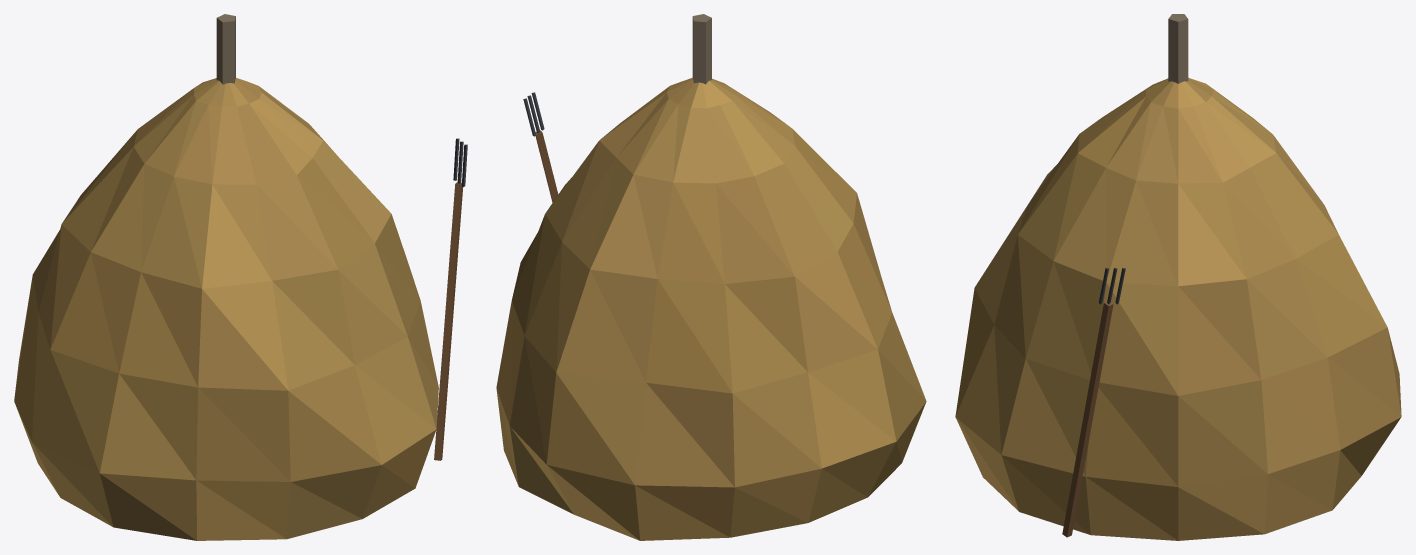
The model's file is Prop_Haystack.glb.
3 views of the same model, side by side, from view 1: azimuth 30°, elevation 25°; view 2: azimuth 150°, elevation 25°; view 3: azimuth 270°, elevation 25° (orthographic).
Parts seen in each view (by area): view 1: Mat_Thatch_af8c4d, Mat_Thatch_987740, Mat_Wood_7b593b, Mat_Wood_807260, Mat_Metal_424448; view 2: Mat_Thatch_af8c4d, Mat_Thatch_987740, Mat_Wood_807260, Mat_Wood_7b593b; view 3: Mat_Thatch_af8c4d, Mat_Thatch_987740, Mat_Wood_7b593b, Mat_Wood_807260.
Boxes of the visible parts, box(x1,y1,x2,y2) form: Mat_Thatch_af8c4d: box(14, 78, 438, 540); Mat_Thatch_987740: box(32, 79, 420, 540); Mat_Wood_7b593b: box(234, 17, 463, 460); Mat_Wood_807260: box(216, 14, 235, 84); Mat_Metal_424448: box(453, 138, 467, 186); Mat_Thatch_af8c4d: box(496, 78, 896, 540); Mat_Thatch_987740: box(509, 81, 926, 514); Mat_Wood_807260: box(692, 14, 711, 84); Mat_Wood_7b593b: box(535, 130, 558, 202); Mat_Thatch_af8c4d: box(955, 77, 1401, 540); Mat_Thatch_987740: box(1018, 79, 1400, 509); Mat_Wood_7b593b: box(1062, 19, 1178, 537); Mat_Wood_807260: box(1168, 14, 1188, 83).
Size of the model in its own units: 6.68 by 7.01 by 6.42.
Materials: 1 (1 with a texture image).
